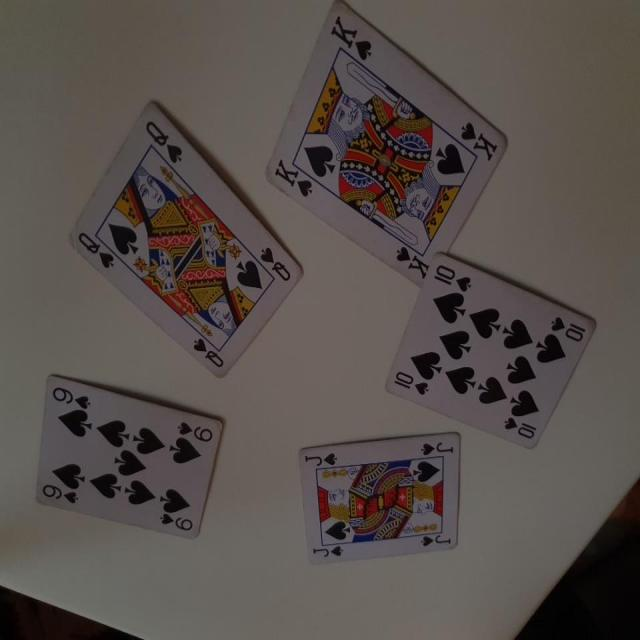10 Spades: (379, 253, 594, 458)
9 Spades: (33, 366, 225, 553)
J Spades: (299, 426, 470, 565)
K Spades: (265, 3, 504, 284)
Q Spades: (66, 92, 305, 393)
